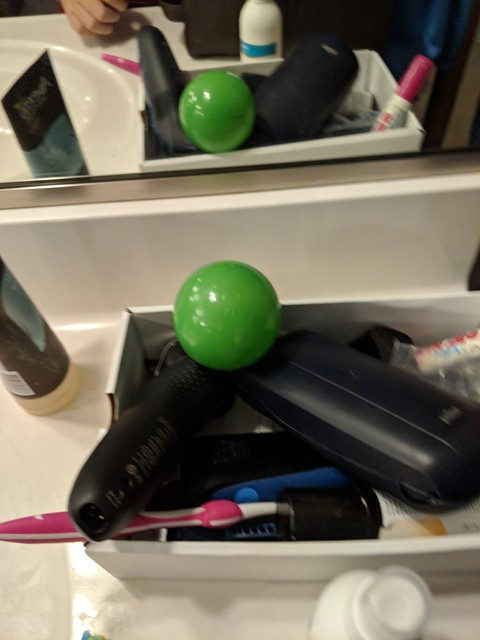ball: (173, 258, 278, 367)
